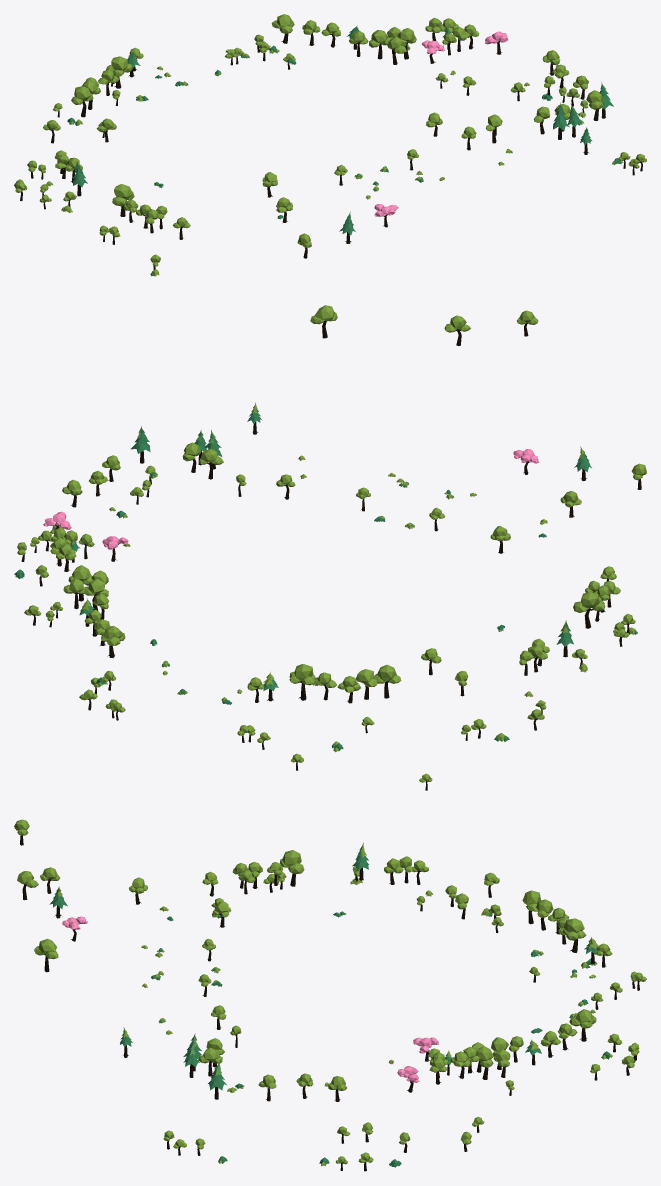
Rendered from ILHA1_10_VEGETATION_203d27.fbx.
The picture shows the model from 3 angles, top to bottom: view 1: azimuth 30°, elevation 25°; view 2: azimuth 150°, elevation 25°; view 3: azimuth 270°, elevation 25°; orthographic projection. The views are drawn at different scales.
Visible parts, largest first — view 1: VEG_Shelf__Leaf_Broad, VEG_SO__Leaf_Broad, VEG_Borda_O__Leaf_Broad, VEG_SE__Leaf_Broad, VEG_Leste__Leaf_Broad, VEG_Plato__Leaf_Broad, VEG_Entrada__Leaf_Broad, VEG_Borda_L__Leaf_Broad, VEG_T1_NO__Leaf_Pine, VEG_Shelf__Bark_Dark, VEG_T1_N__Leaf_Broad, VEG_Borda_S__Leaf_Broad (+1 smaller); view 2: VEG_Shelf__Leaf_Broad, VEG_SO__Leaf_Broad, VEG_SE__Leaf_Broad, VEG_Borda_O__Leaf_Broad, VEG_Leste__Leaf_Broad, VEG_Plato__Leaf_Broad, VEG_Entrada__Leaf_Broad, VEG_Shelf__Bark_Dark; view 3: VEG_Shelf__Leaf_Broad, VEG_SO__Leaf_Broad, VEG_Borda_O__Leaf_Broad, VEG_Leste__Leaf_Broad, VEG_Plato__Leaf_Broad, VEG_Entrada__Leaf_Broad, VEG_SE__Leaf_Broad, VEG_Borda_L__Leaf_Broad, VEG_Shelf__Bark_Dark, VEG_Borda_S__Leaf_Broad, VEG_T1_N__Leaf_Broad, VEG_T1_NO__Leaf_Broad (+2 smaller).
Part boxes in pixels (x1,y1,x2,y2): VEG_Shelf__Leaf_Broad: (15, 34, 646, 276); VEG_SO__Leaf_Broad: (349, 25, 466, 53); VEG_Borda_O__Leaf_Broad: (425, 17, 588, 89); VEG_SE__Leaf_Broad: (43, 69, 118, 132); VEG_Leste__Leaf_Broad: (55, 150, 167, 223); VEG_Plato__Leaf_Broad: (297, 90, 603, 247); VEG_Entrada__Leaf_Broad: (106, 14, 294, 76); VEG_Borda_L__Leaf_Broad: (65, 157, 190, 228); VEG_T1_NO__Leaf_Pine: (553, 85, 613, 130); VEG_Shelf__Bark_Dark: (20, 45, 642, 269); VEG_T1_N__Leaf_Broad: (262, 126, 476, 186); VEG_Borda_S__Leaf_Broad: (86, 20, 340, 87); VEG_Shelf__Leaf_Broad: (17, 465, 636, 782); VEG_SO__Leaf_Broad: (63, 530, 108, 611); VEG_SE__Leaf_Broad: (314, 648, 468, 687); VEG_Borda_O__Leaf_Broad: (50, 455, 120, 560); VEG_Leste__Leaf_Broad: (519, 580, 620, 665); VEG_Plato__Leaf_Broad: (310, 305, 646, 480); VEG_Entrada__Leaf_Broad: (101, 625, 315, 690); VEG_Shelf__Bark_Dark: (21, 474, 629, 790); VEG_Shelf__Leaf_Broad: (163, 866, 646, 1166); VEG_SO__Leaf_Broad: (428, 1036, 538, 1067); VEG_Borda_O__Leaf_Broad: (258, 1046, 479, 1090); VEG_Leste__Leaf_Broad: (232, 842, 428, 882); VEG_Plato__Leaf_Broad: (14, 819, 60, 959); VEG_Entrada__Leaf_Broad: (562, 918, 612, 1028); VEG_SE__Leaf_Broad: (455, 872, 569, 935); VEG_Borda_L__Leaf_Broad: (202, 858, 403, 884); VEG_Shelf__Bark_Dark: (167, 876, 640, 1171); VEG_Borda_S__Leaf_Broad: (540, 908, 577, 1046); VEG_T1_N__Leaf_Broad: (198, 901, 231, 1019); VEG_T1_NO__Leaf_Broad: (198, 1025, 241, 1063).
Size of the model in its own units: 338 by 140 by 333.
Materials: 7 (1 with a texture image).
